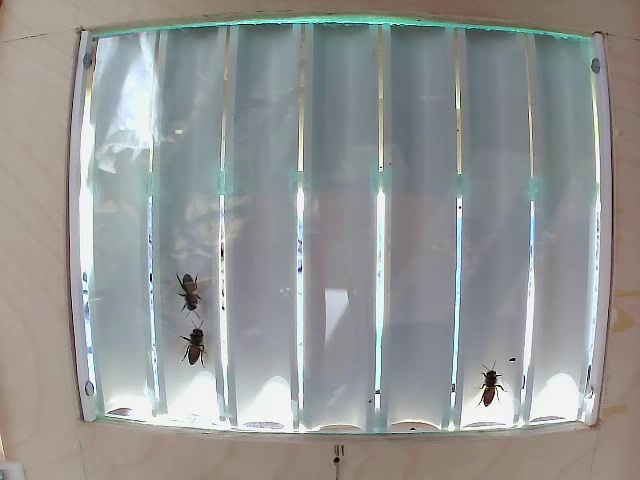bee: (170, 266, 208, 317), (169, 320, 212, 360), (475, 367, 510, 411)
